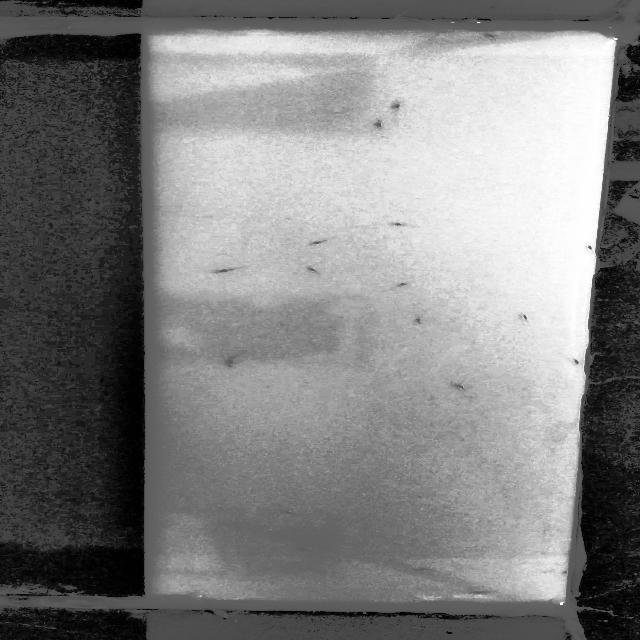shrimp: (207, 260, 265, 275), (388, 277, 420, 291), (408, 563, 436, 577), (510, 311, 533, 327), (222, 356, 244, 371), (279, 506, 304, 519), (561, 352, 581, 368), (299, 239, 338, 247), (305, 264, 324, 278), (469, 590, 495, 600), (292, 547, 324, 555), (583, 239, 600, 254), (373, 120, 387, 138), (413, 314, 430, 328), (451, 380, 470, 390), (390, 103, 407, 111), (485, 33, 498, 41), (392, 221, 403, 229)
